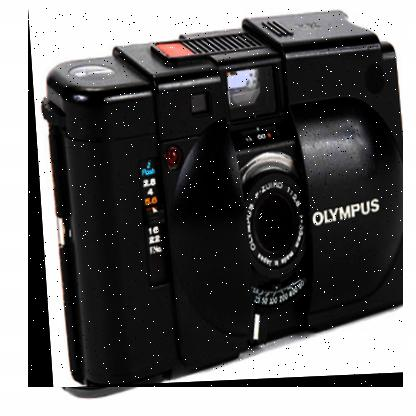Camera: (30, 10, 406, 390)
